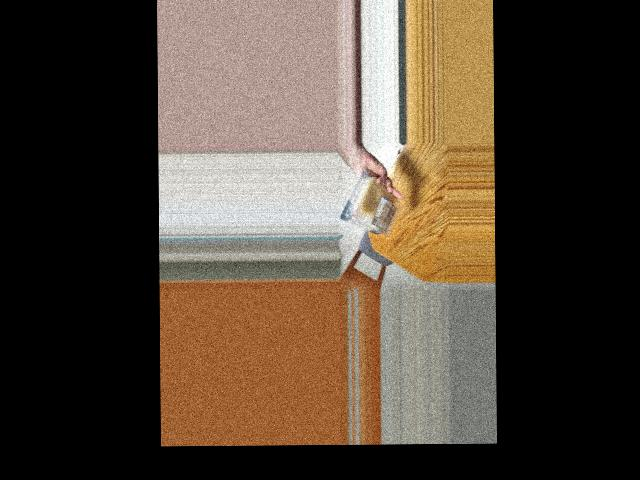cheese: (344, 169, 390, 236)
